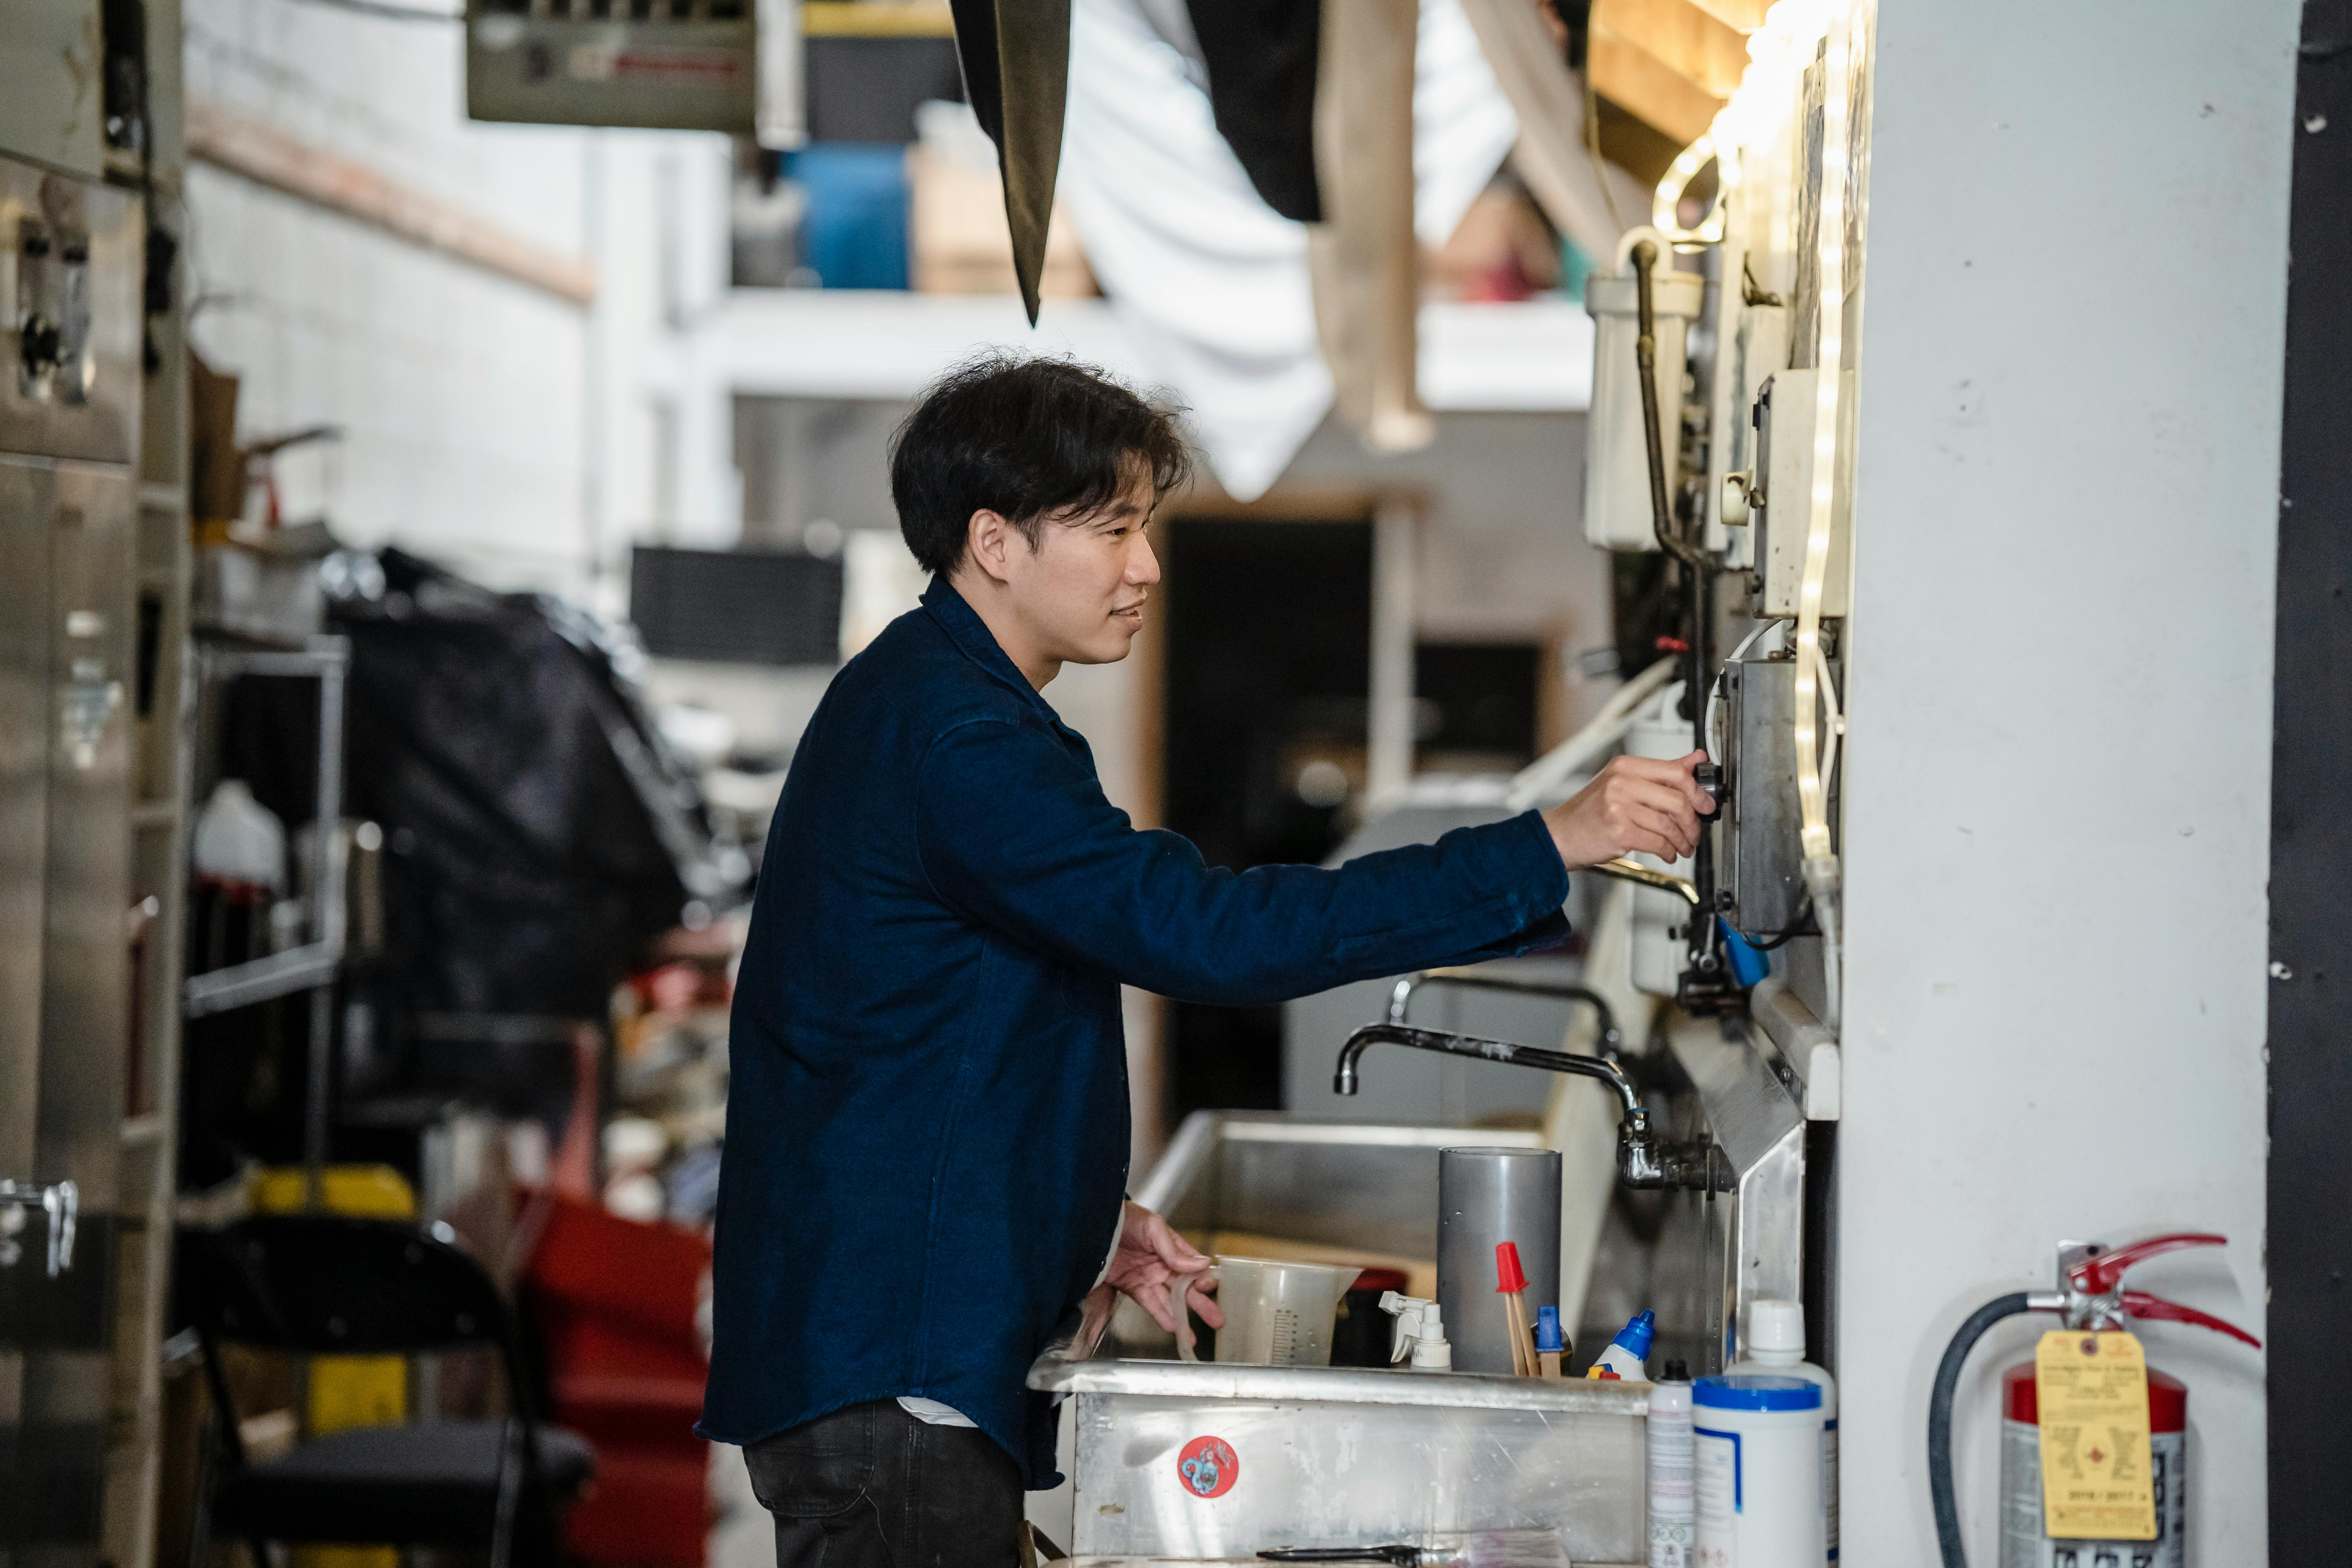extintor: (1922, 1225, 2263, 1566)
